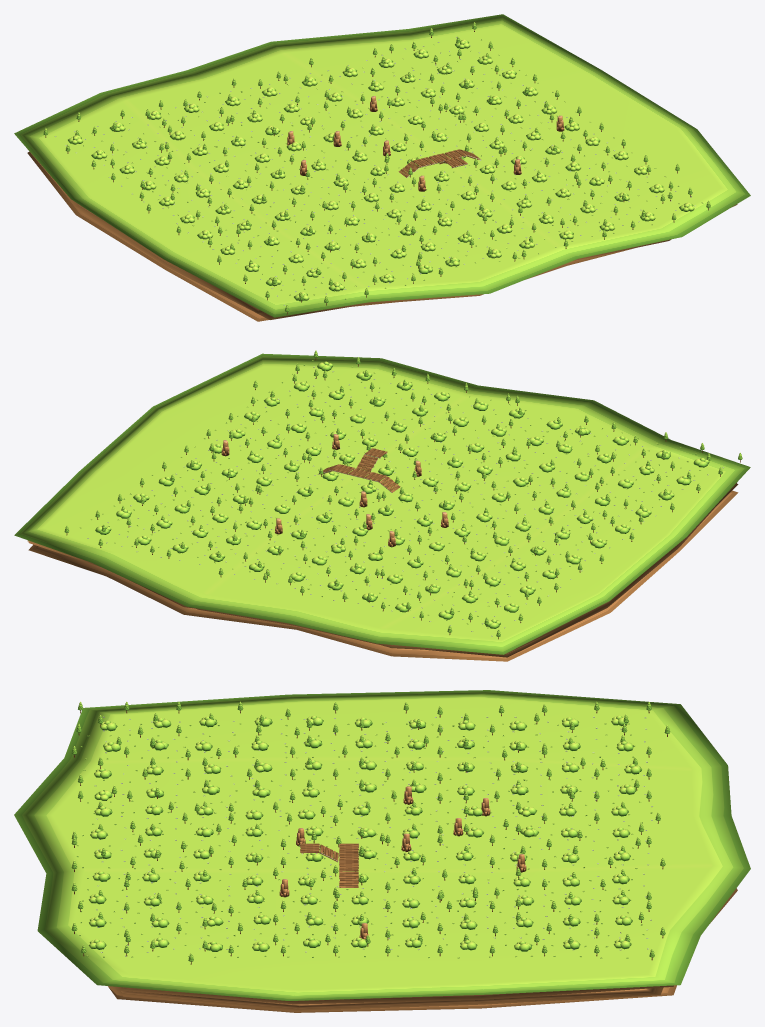
Rendered from World.glb.
3 views of the same model, one above another, from view 1: azimuth 30°, elevation 25°; view 2: azimuth 150°, elevation 25°; view 3: azimuth 270°, elevation 25° (orthographic). The views are drawn at different scales.
Parts seen in each view (by area): view 1: GroundModel; view 2: GroundModel; view 3: GroundModel.
Boxes of the visible parts, box(x1,y1,x2,y2) form: GroundModel: box(14, 14, 750, 321); GroundModel: box(14, 353, 750, 661); GroundModel: box(14, 690, 750, 1012).
Size of the model in its own units: 64.05 by 3.8 by 64.13.
1 material, 1 textured.
